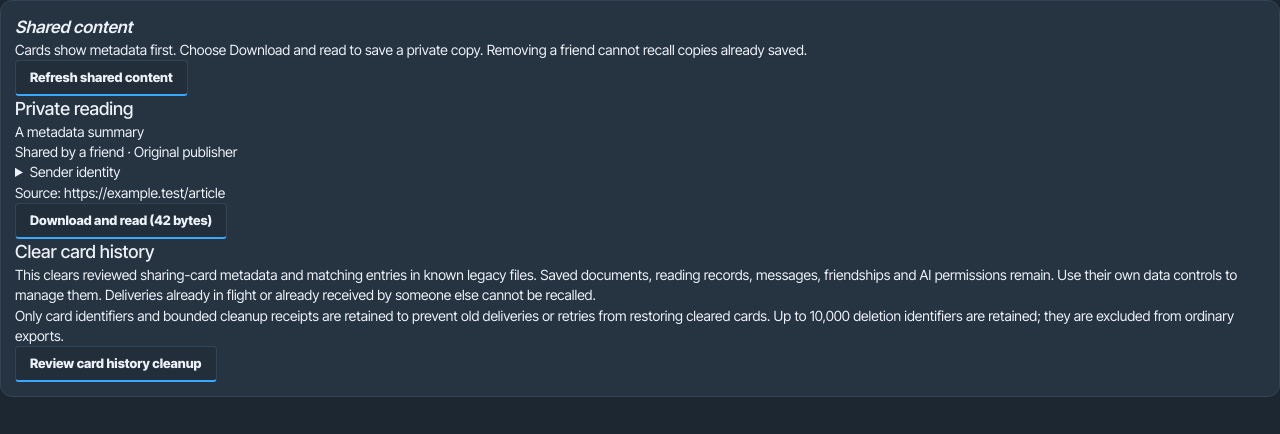
shows card metadata without fetching private bytes and recovers a denied download
Check: the heading "Private reading" is shown, box x1=15 y1=98 x2=133 y2=119
Check: the text "Source: https://example.test/article" is shown, box x1=15 y1=184 x2=225 y2=201
Click the button "Download and read (42 bytes)" at x=121, y=221, box x1=15 y1=203 x2=227 y2=239
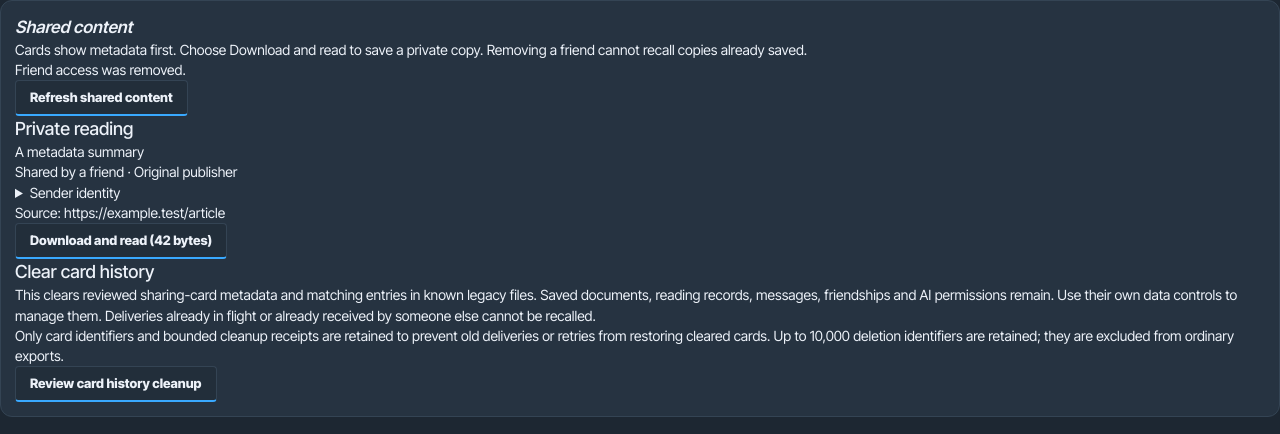
Check: the button "Download and read (42 bytes)" is enabled, box x1=15 y1=223 x2=227 y2=259
Check: the message shows "access was removed", box x1=15 y1=61 x2=186 y2=78
